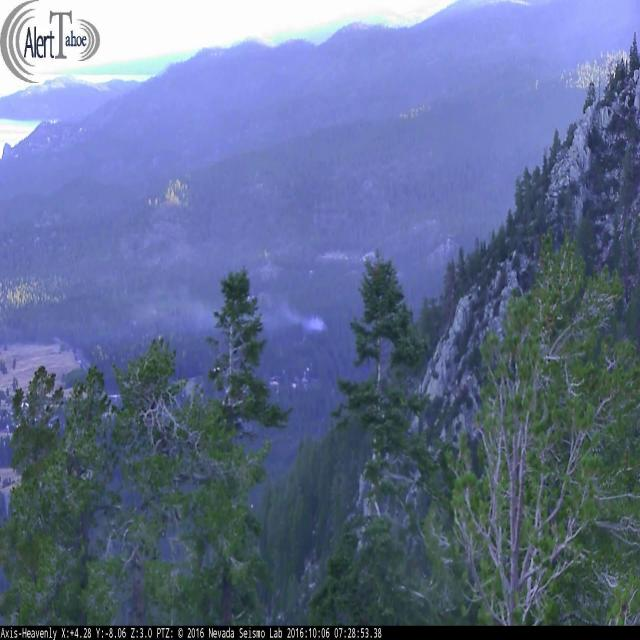smoke: (117, 288, 326, 334)
